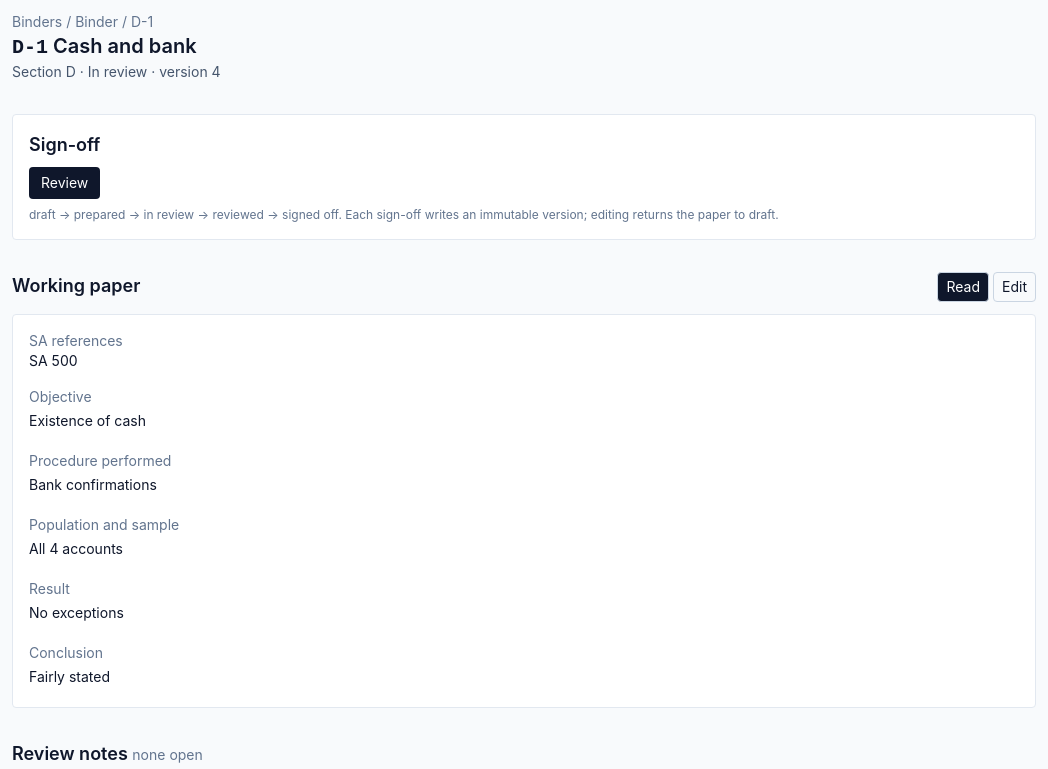
Scenario: a failed action against stale data shows the refusal and the real current state
Click the button "Review".
click(65, 183)  # box [29,167,100,199]
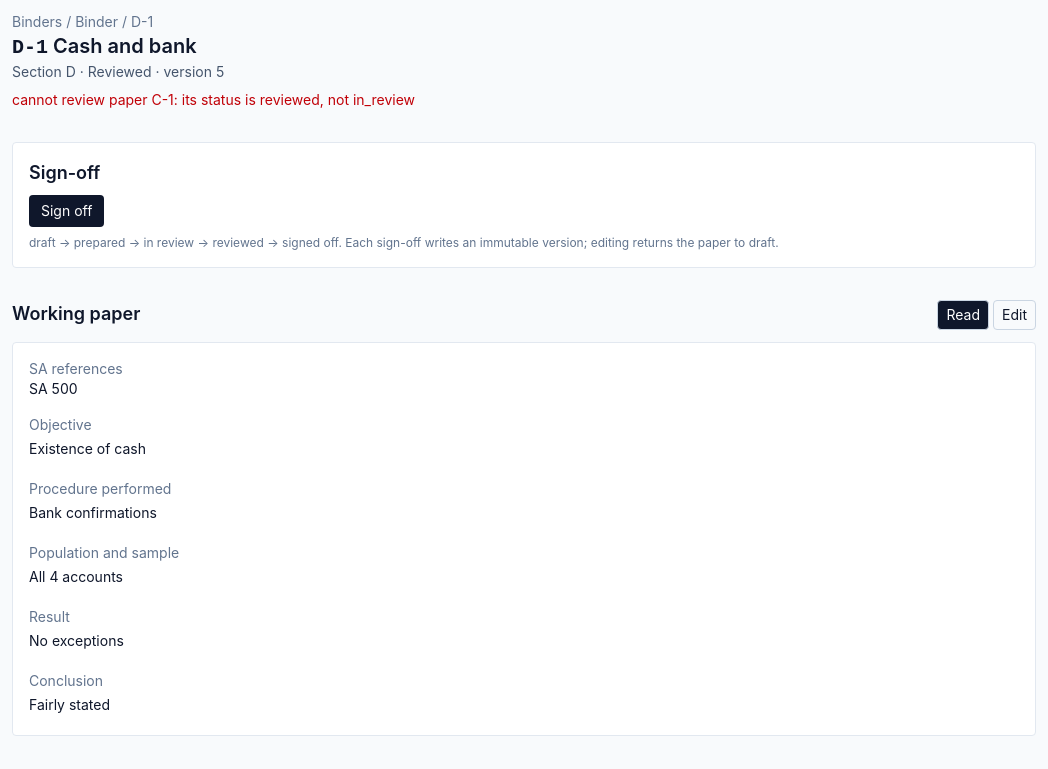
Result: the message shows "its status is reviewed, not in_review" at [12,91,415,108]
Result: the text with test id "status" reads "Reviewed" at [88,63,152,80]
Result: the text "Section D · Reviewed · version 5" is shown at [12,63,224,80]
